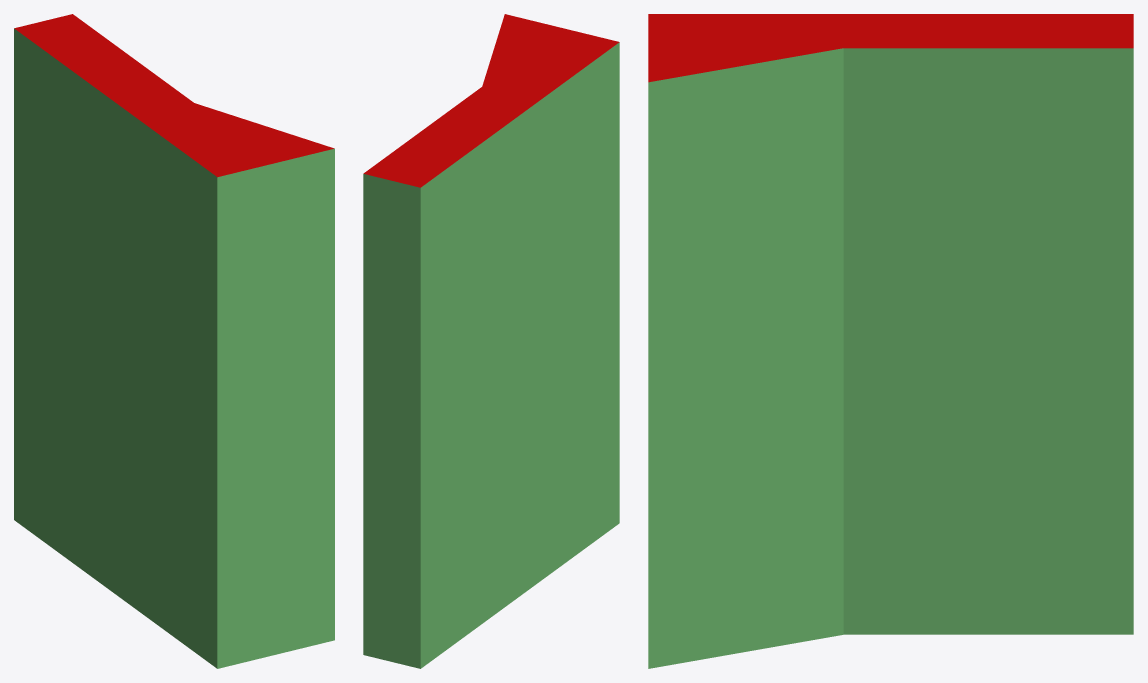
Rendered from x_00_colonn_16_1_mirror.fbx.
3 renders of one model, left to right at view 1: azimuth 30°, elevation 25°; view 2: azimuth 150°, elevation 25°; view 3: azimuth 270°, elevation 25°, orthographic. The views are drawn at different scales.
Parts seen in each view (by area): view 1: x_00_colonn_16_1_mirror1; view 2: x_00_colonn_16_1_mirror1; view 3: x_00_colonn_16_1_mirror1.
Part boxes in pixels (x1,y1,x2,y2): x_00_colonn_16_1_mirror1: (14, 14, 334, 668); x_00_colonn_16_1_mirror1: (363, 14, 619, 668); x_00_colonn_16_1_mirror1: (648, 14, 1133, 668).
Bounding box in the file's own units: 1 × 4 × 3.
